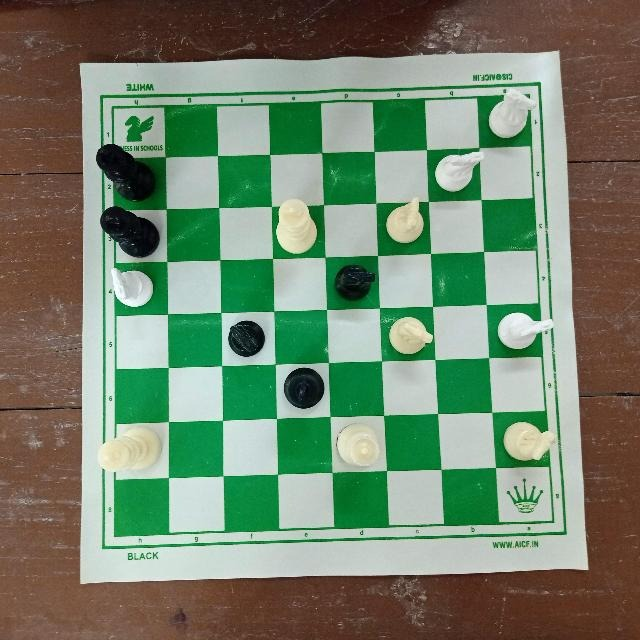black-king: (93, 141, 157, 200), (98, 205, 164, 260), (280, 364, 326, 414)
black-knight: (327, 261, 379, 306), (223, 316, 271, 359)
white-king: (96, 425, 165, 477), (272, 198, 320, 256)
white-knight: (486, 86, 538, 140), (491, 306, 554, 350), (498, 419, 558, 465), (432, 146, 486, 196), (107, 263, 163, 310), (384, 195, 428, 245), (384, 317, 436, 358)
white-queen: (333, 420, 385, 472)
